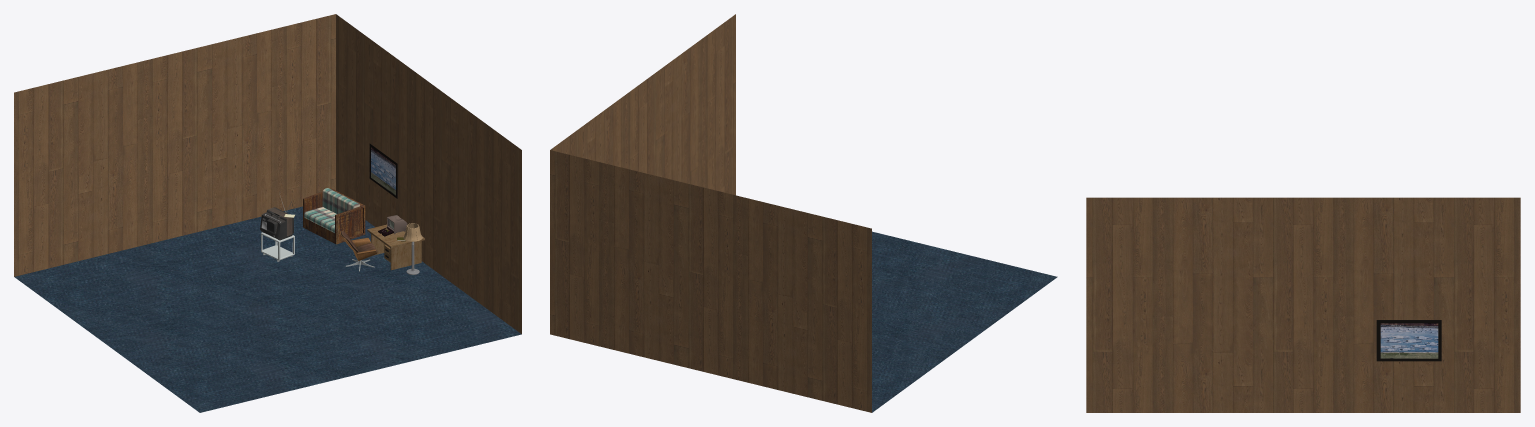
Rendered from chambre_opt.glb.
3 views of the same model, side by side, from view 1: azimuth 30°, elevation 25°; view 2: azimuth 150°, elevation 25°; view 3: azimuth 270°, elevation 25° (orthographic). The views are drawn at different scales.
Visible parts, largest first — view 1: mur-sol, canape, minitel, bureau, coussin-bas-droit, tele, floating-corpse, chaise; view 2: mur-sol; view 3: mur-sol, floating-corpse, minitel.
Boxes of the visible parts, x1,y1,x2,y2 form: mur-sol: (14, 14, 521, 412); canape: (303, 188, 365, 244); minitel: (261, 143, 419, 274); bureau: (367, 224, 424, 270); coussin-bas-droit: (304, 188, 359, 232); tele: (260, 207, 293, 240); floating-corpse: (371, 147, 395, 195); chaise: (339, 231, 377, 271); mur-sol: (550, 14, 1057, 412); mur-sol: (1086, 197, 1520, 412); floating-corpse: (1380, 323, 1438, 358); minitel: (1376, 320, 1441, 361).
Size of the model in its own units: 10.02 by 5.47 by 10.
Materials: 13 (13 with a texture image).
